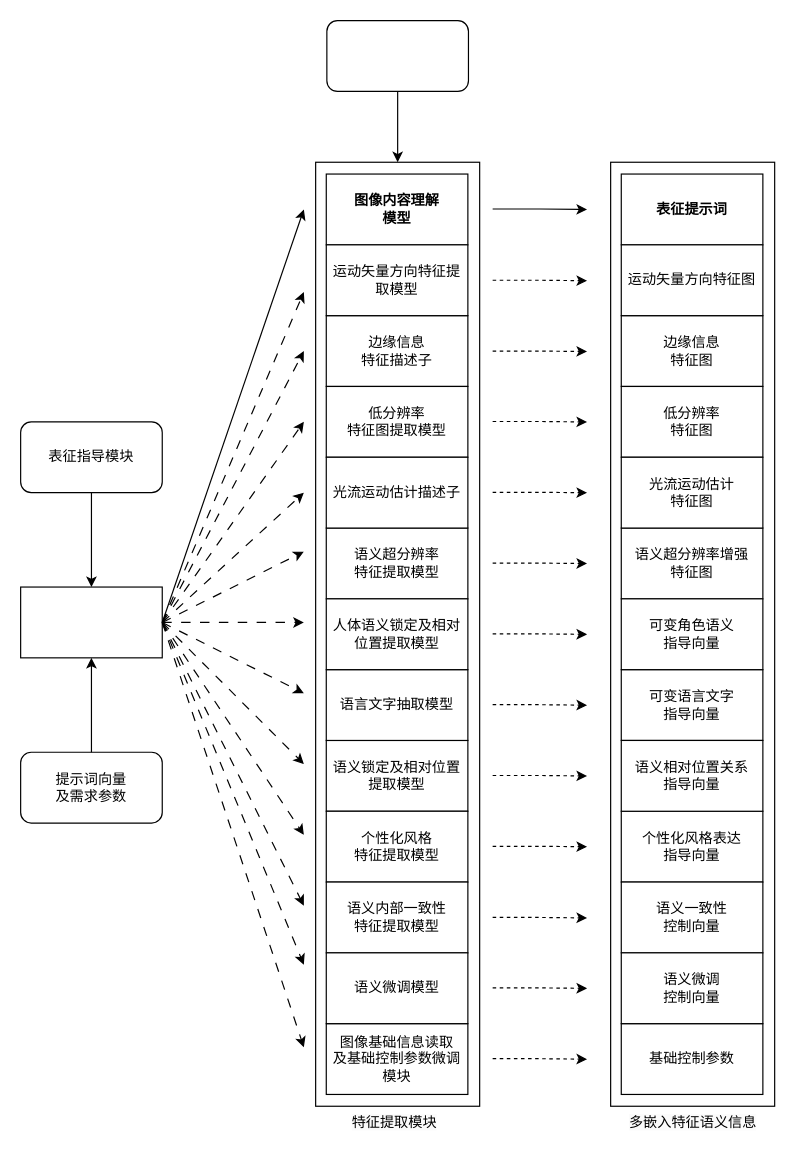
This 795x1174 diagram has some shape labels left out. The shapes that lost their labels are listed below. From the top down, each one's centre as x and y in pixels, then its label:
At [397,55]: "原始语义信息 图像".
At [90,622]: "相位权重编码".
